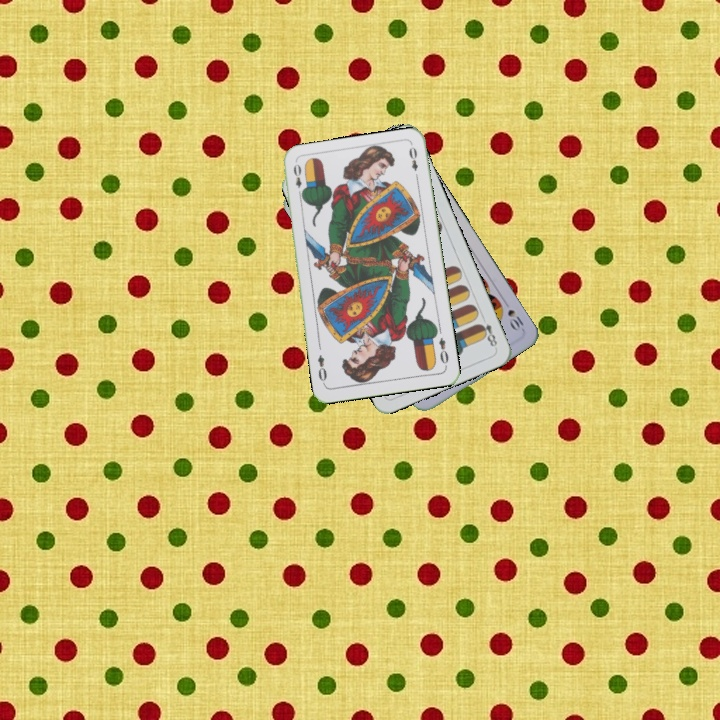E8: (475, 319, 500, 351)
EO: (289, 160, 306, 200), (435, 333, 451, 366)
S10: (499, 296, 526, 333)
